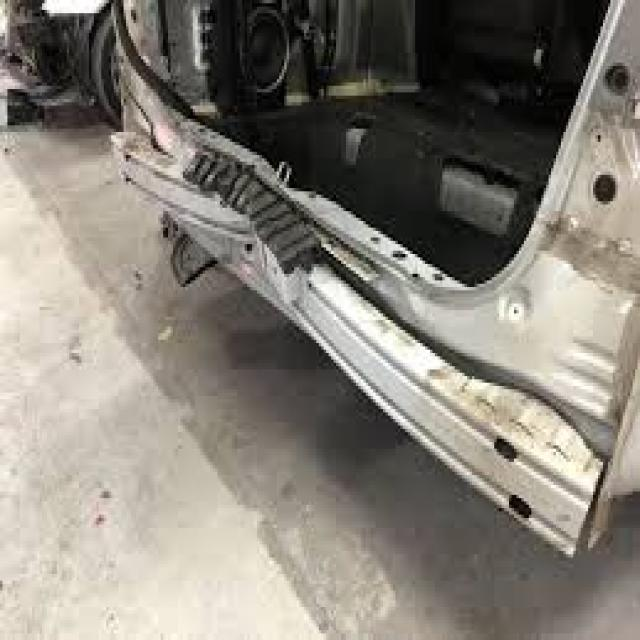damaged-rear-bumper: (113, 92, 594, 540)
